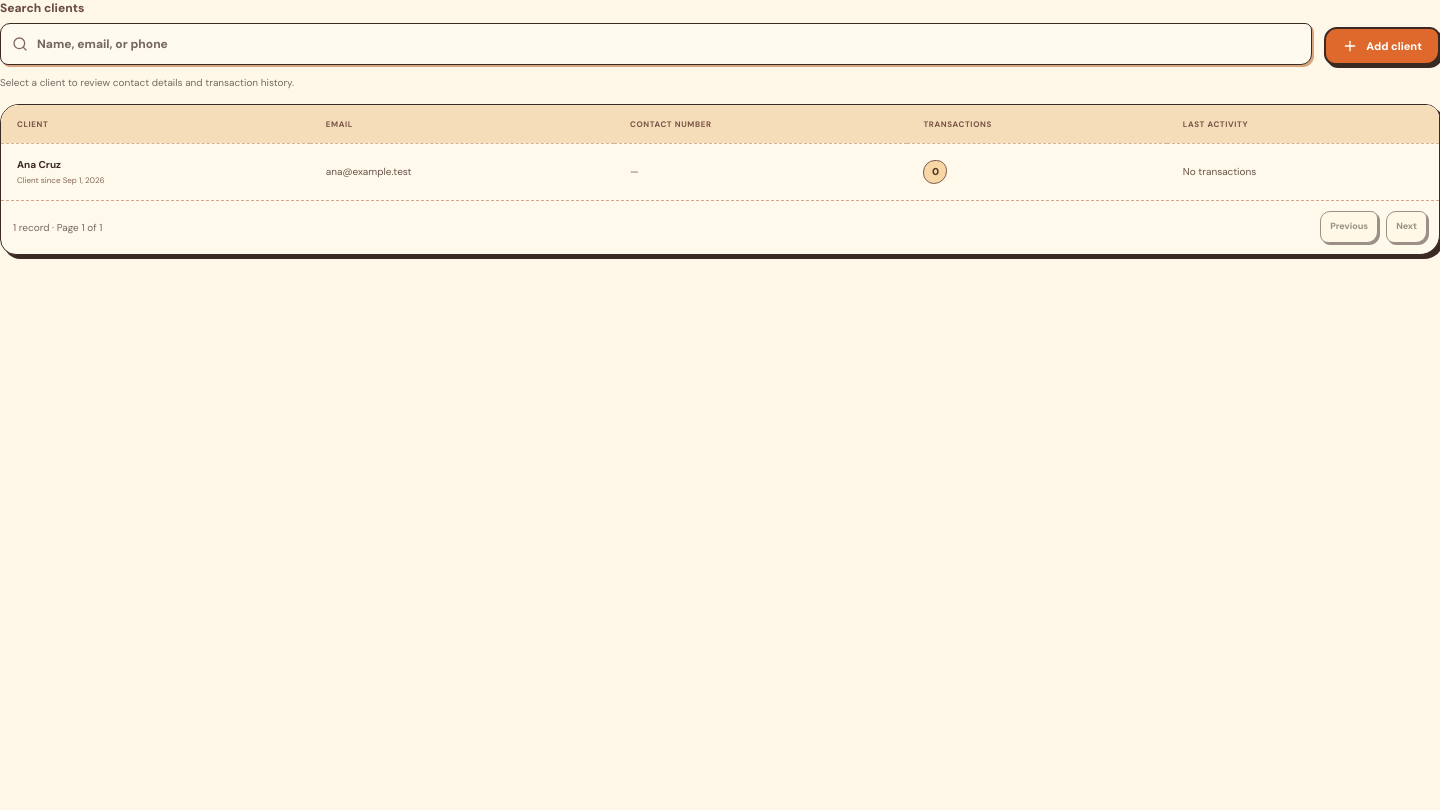
Scenario: Clients workflow › renders snapshot transaction details, exact totals, and recorded payments
The width and height of the screenshot is (1440, 810).
Click the button with aria-label "Open Ana Cruz details" at [720, 171], box top-left (1, 143), bottom-right (1439, 200)
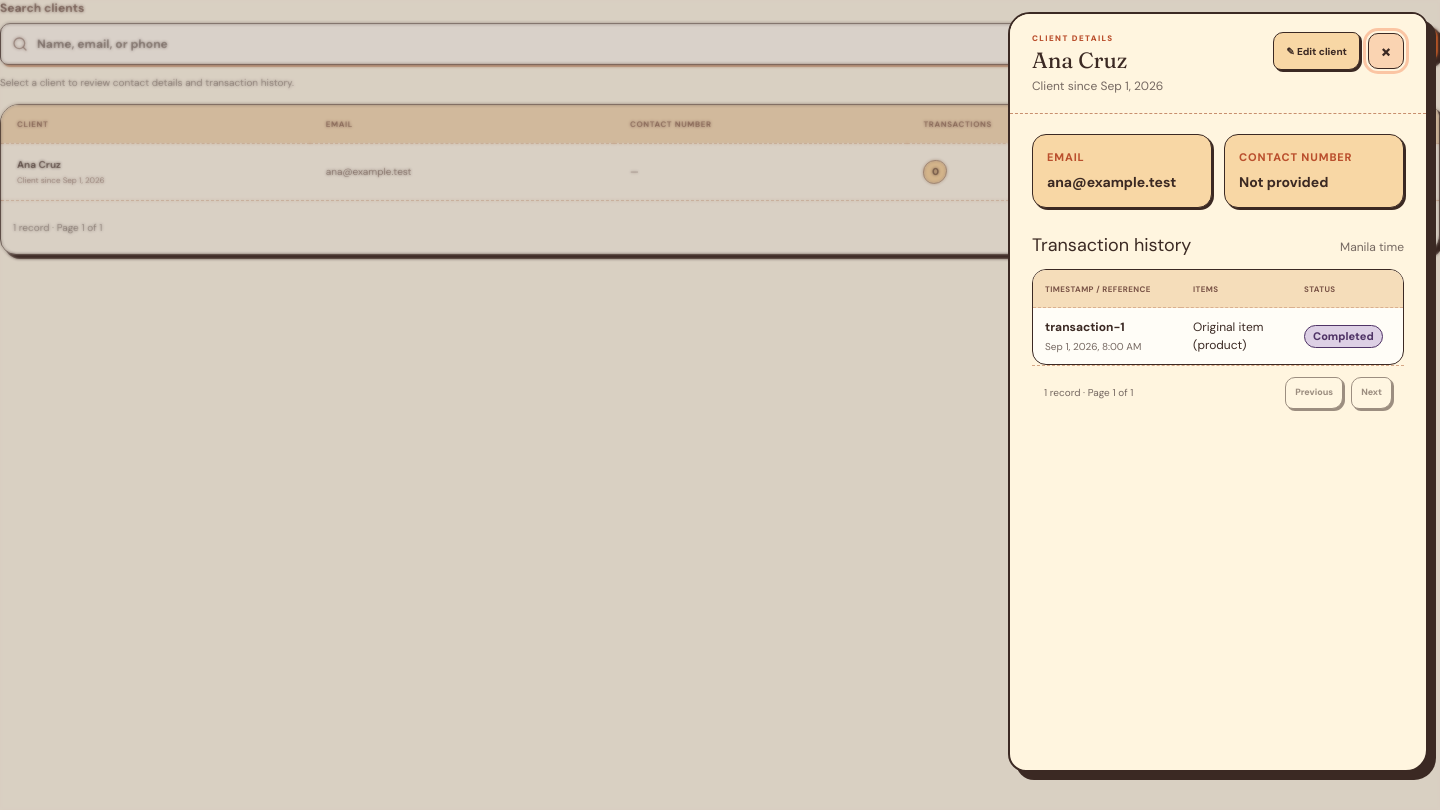
Click the button "transaction-1" at [1085, 327], box top-left (1045, 318), bottom-right (1125, 336)
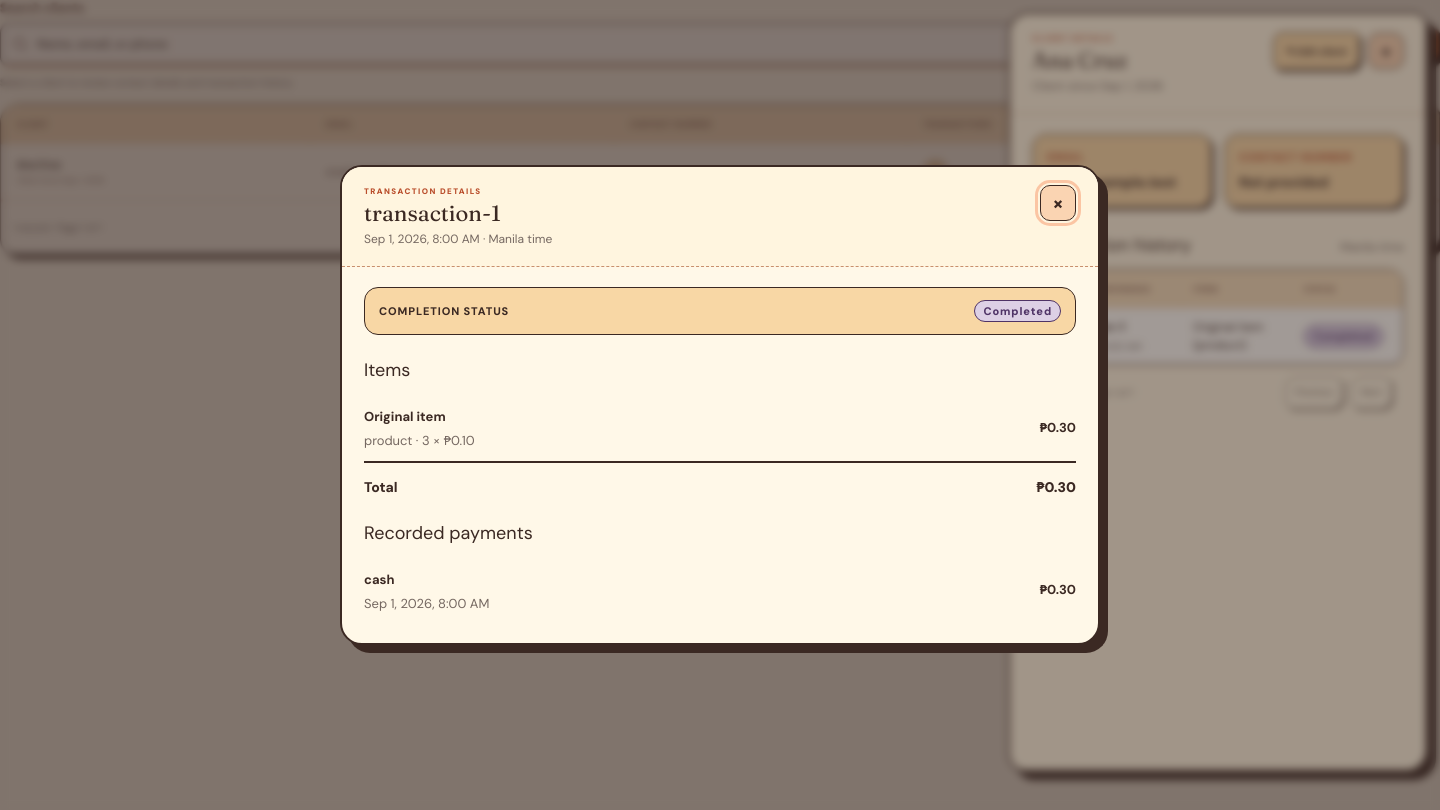
Expected: the text "Original item" is shown, top-left (364, 408), bottom-right (446, 425)
Expected: the text "Total" shows "₱0.30", top-left (1036, 478), bottom-right (1076, 496)
Expected: the text "cash" is shown, top-left (364, 571), bottom-right (394, 588)
